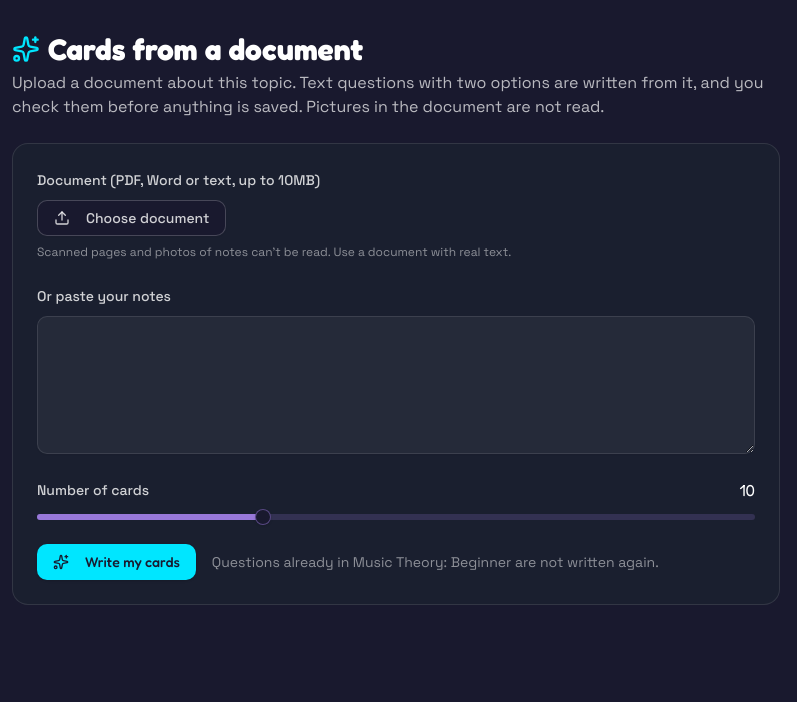
Admin: cards from a document › comes back to the same notes on Start over
Click the text box labelled "Or paste your notes" at (396, 385), box [37,316,755,454]
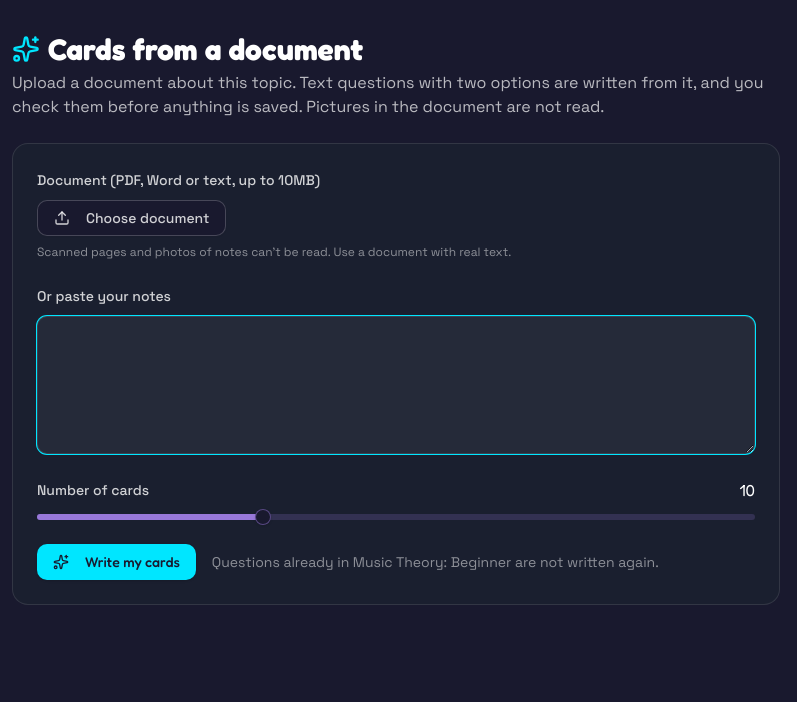
Type keys "A sharp raises a note by a semitone. A flat lowers a note by a semitone."
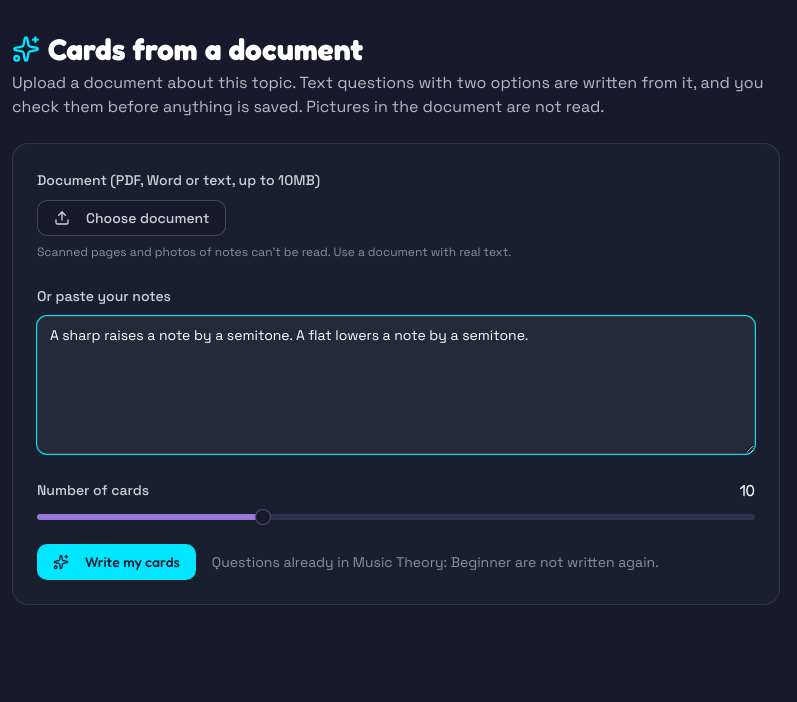
Click the button "Write my cards" at (116, 562), box [37,544,196,580]
(page scrolled)
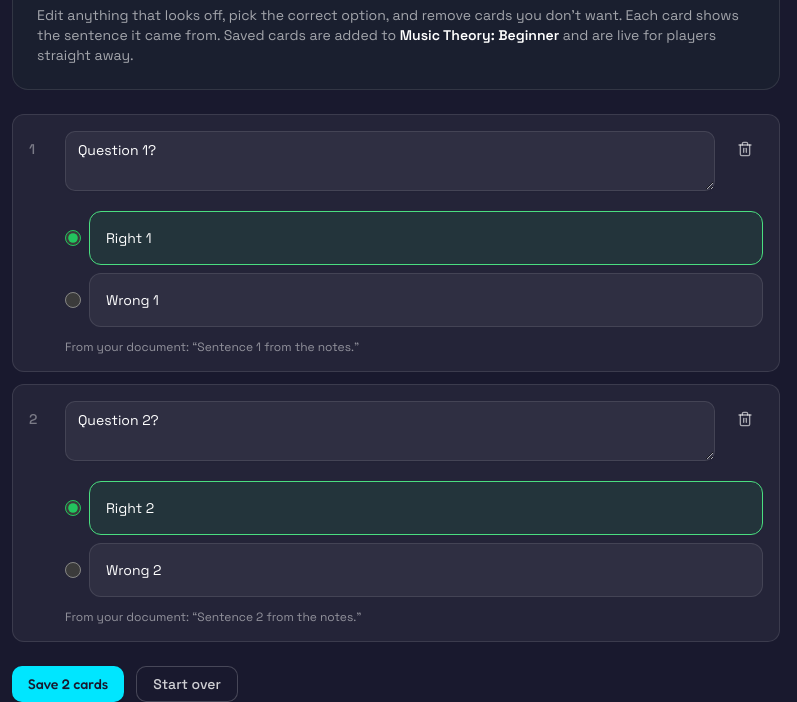
Click the button "Start over" at (187, 684), box [136,666,238,701]
(page scrolled)
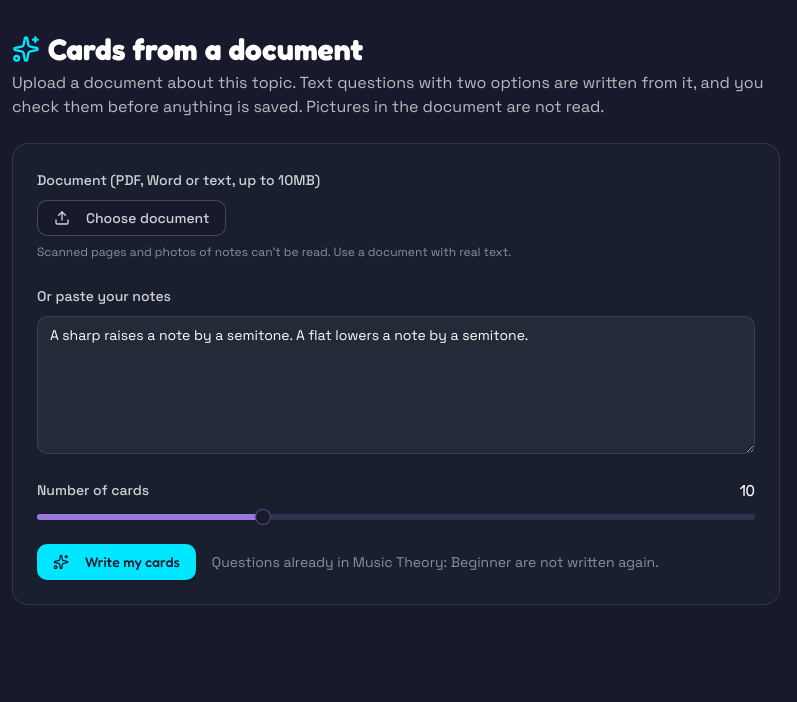
expect the text box labelled "Or paste your notes" holds "A sharp raises a note by a semitone. A flat lowers a note by a semitone.": met, box [37,316,755,454]
expect the button "Write my cards" is enabled: met, box [37,544,196,580]
